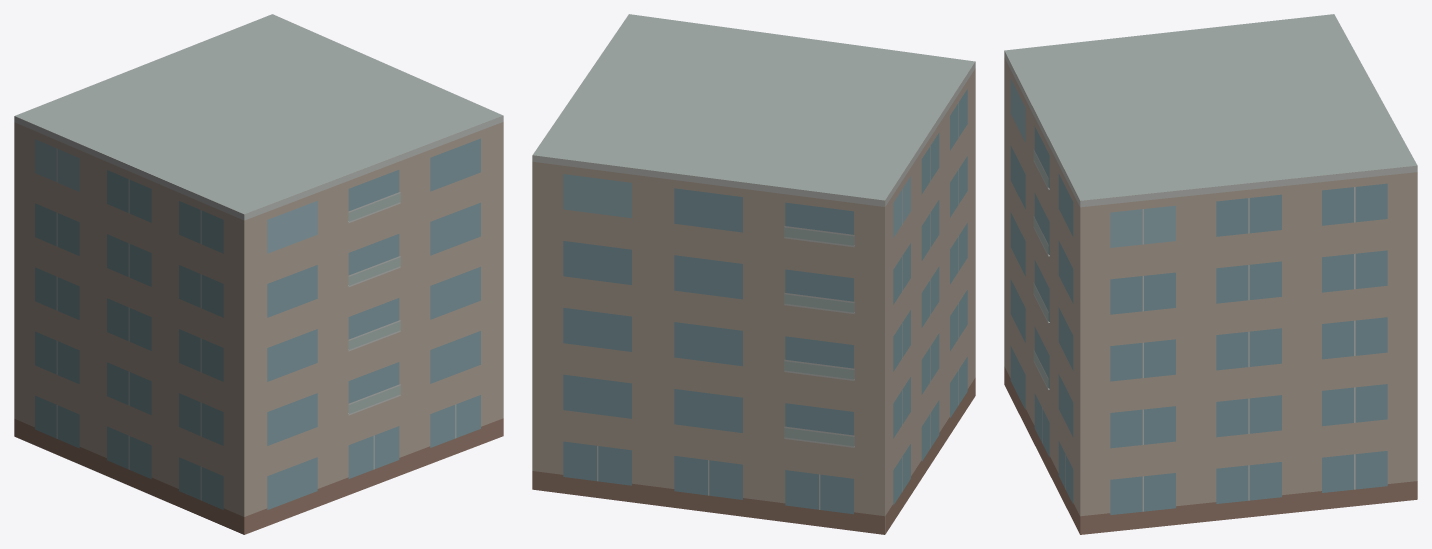
File: survey-upis-32812524.glb
The picture shows the model from 3 angles, left to right: view 1: azimuth 30°, elevation 25°; view 2: azimuth 150°, elevation 25°; view 3: azimuth 270°, elevation 25°; orthographic projection. The views are drawn at different scales.
Parts seen in each view (by area): view 1: survey-upis-32812524.tmp; view 2: survey-upis-32812524.tmp; view 3: survey-upis-32812524.tmp.
Boxes of the visible parts, bbox=[...] form: survey-upis-32812524.tmp: bbox=[14, 14, 503, 534]; survey-upis-32812524.tmp: bbox=[532, 14, 975, 534]; survey-upis-32812524.tmp: bbox=[1004, 14, 1417, 534].
Bounding box in the file's own units: 15.12 × 12.6 × 14.14.
